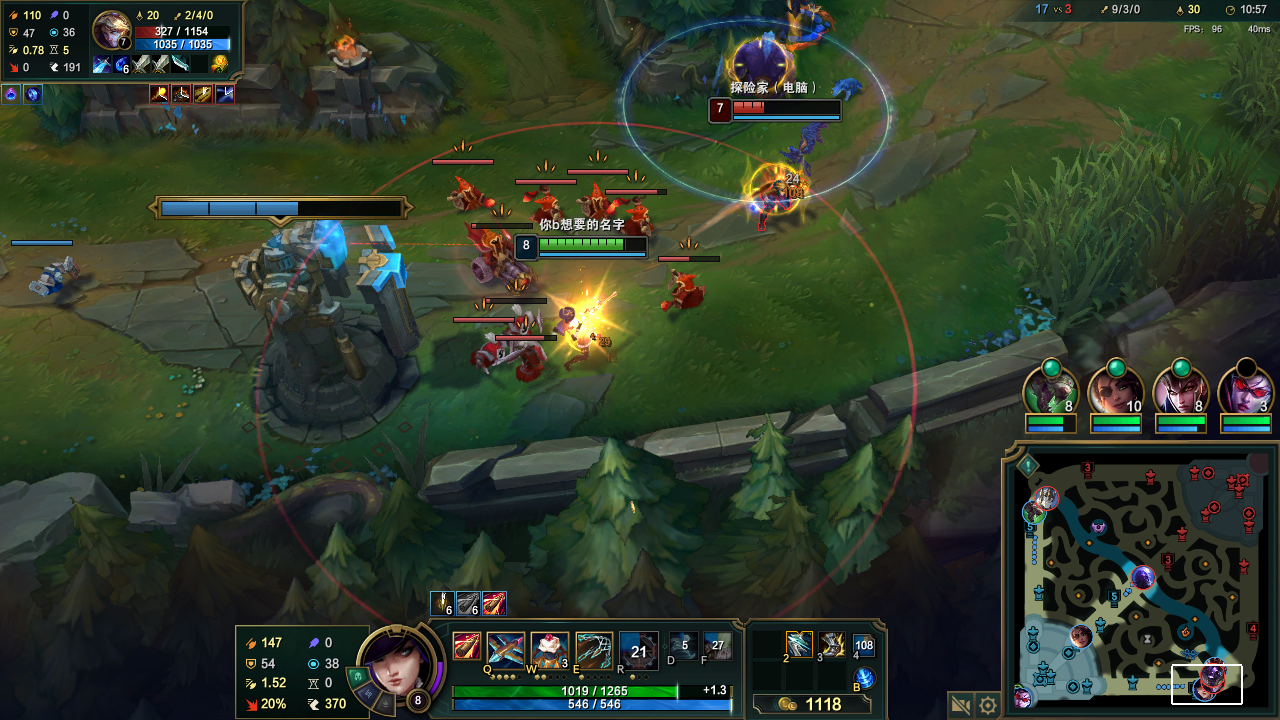DFXB: (475, 236, 523, 288), (445, 174, 490, 212), (671, 274, 707, 320), (513, 341, 549, 379), (584, 183, 617, 220), (538, 194, 571, 226), (472, 336, 502, 366), (505, 317, 540, 342), (622, 207, 651, 233)
DFYX: (732, 102, 839, 114)
